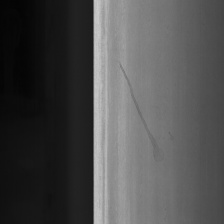water_spot: (114, 55, 178, 168)
